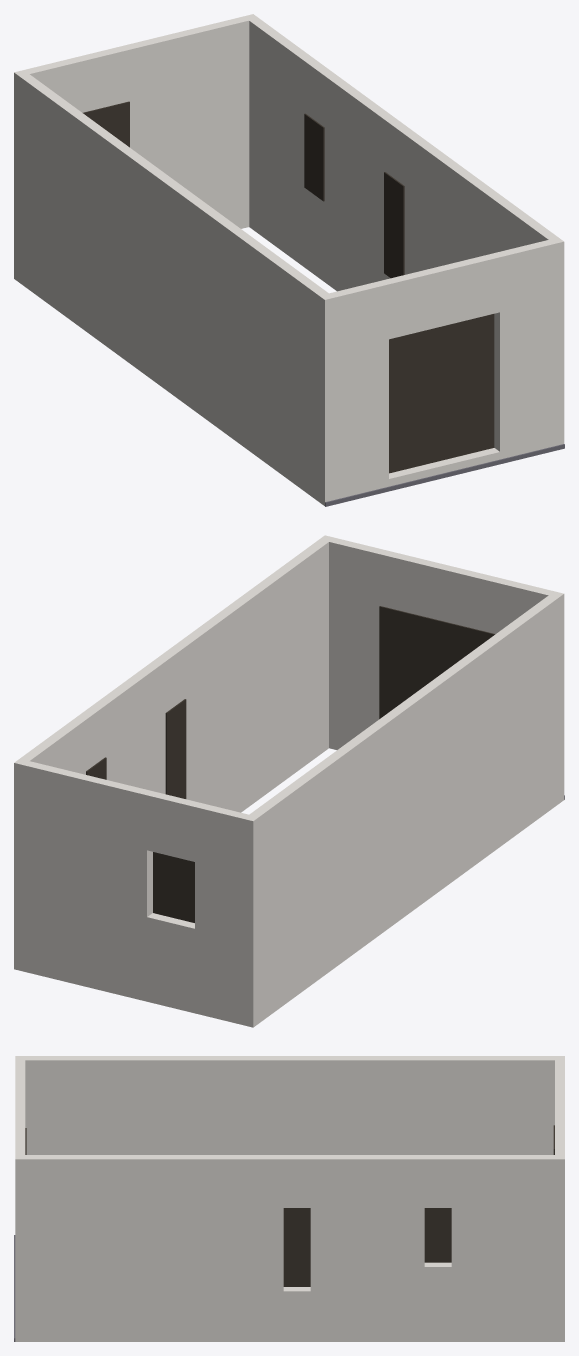
Rendered from SM_Floor_NarrowUpperBalconyEndR_White_364_Back_01.gltf.
3 views of the same model, one above another, from view 1: azimuth 30°, elevation 25°; view 2: azimuth 150°, elevation 25°; view 3: azimuth 270°, elevation 25° (orthographic). The views are drawn at different scales.
Visible parts, largest first — view 1: SM_Floor_NarrowUpperBalconyEndR_White_364_Back_01; view 2: SM_Floor_NarrowUpperBalconyEndR_White_364_Back_01; view 3: SM_Floor_NarrowUpperBalconyEndR_White_364_Back_01.
Boxes of the visible parts, <box> form: SM_Floor_NarrowUpperBalconyEndR_White_364_Back_01: <box>14,14,564,506</box>; SM_Floor_NarrowUpperBalconyEndR_White_364_Back_01: <box>14,535,564,1027</box>; SM_Floor_NarrowUpperBalconyEndR_White_364_Back_01: <box>14,1056,564,1341</box>.
Size of the model in its own units: 3.64 by 3 by 8.21.
Materials: 1 (1 with a texture image).
